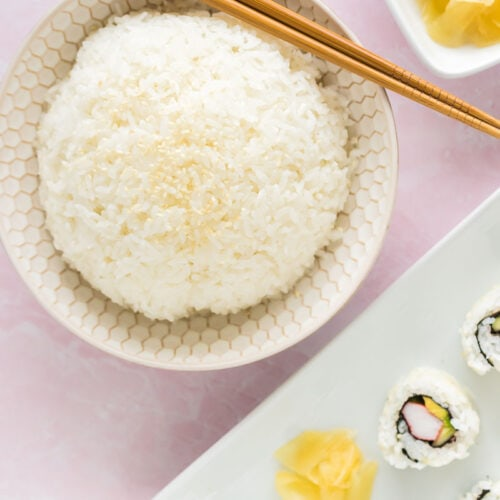Nasi Putih: (30, 9, 418, 367)
